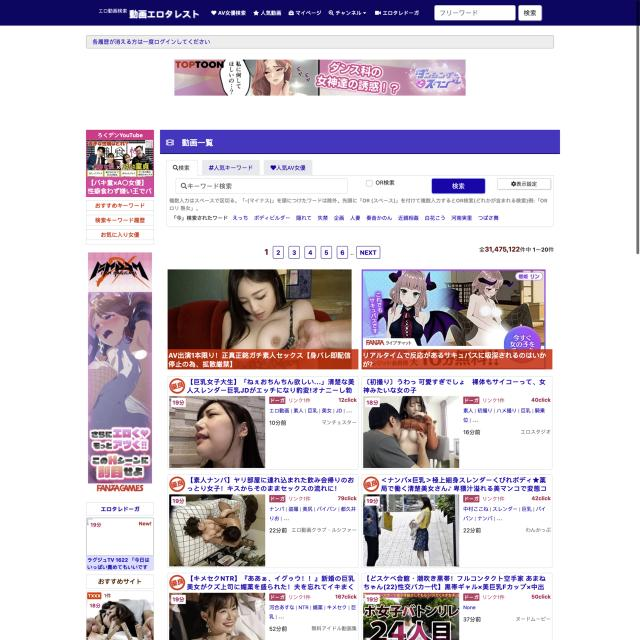input: (176, 179, 348, 194), (434, 5, 516, 21)
logo: (97, 8, 200, 20)
